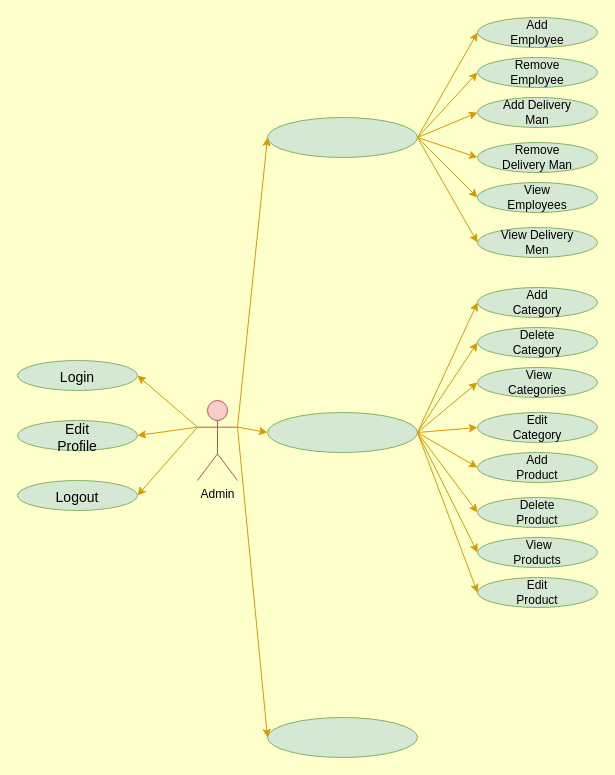
The diagram is 615 pixels wide and 775 high, and some of its shapes have lost their labels. The shapes that lost their labels are listed below. From the top down, each one's box as (x1, y1, x2, y2) in pixels, then its label:
(266, 116, 418, 158): Employee Management
(266, 412, 418, 452): Product Management
(266, 716, 418, 758): Stocks Reports
